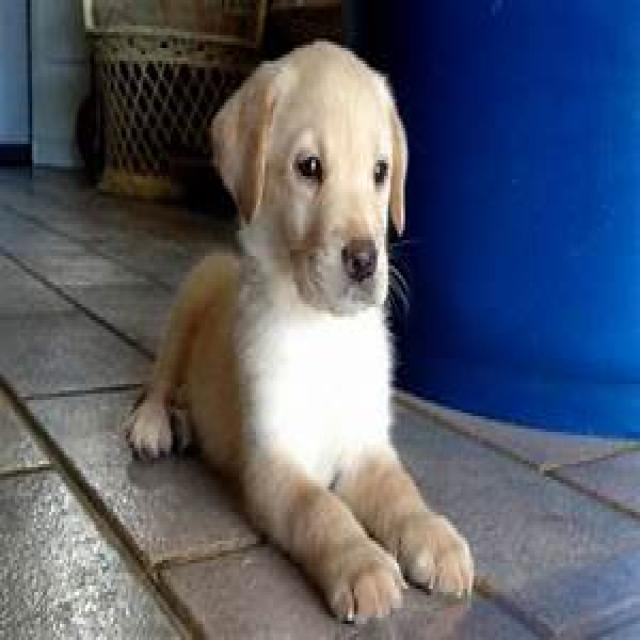dog: (128, 54, 475, 614)
